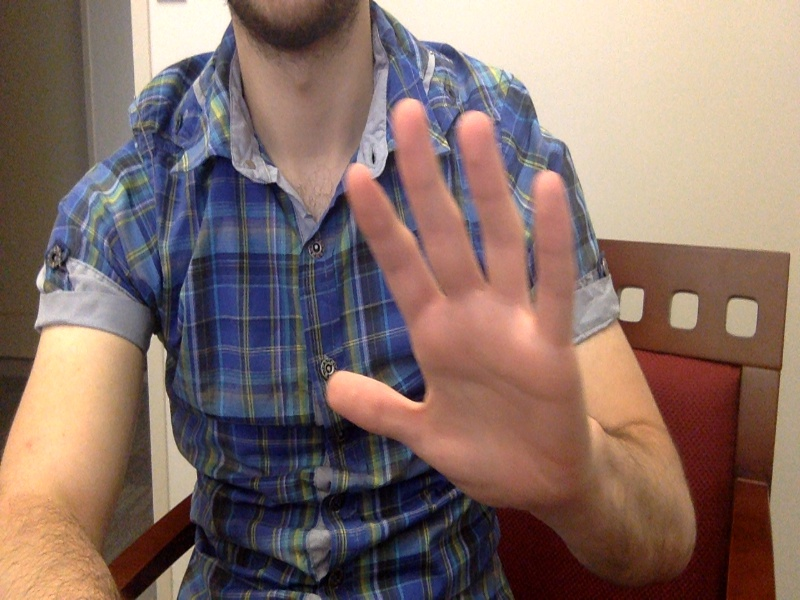5-hand: (316, 100, 598, 517)
